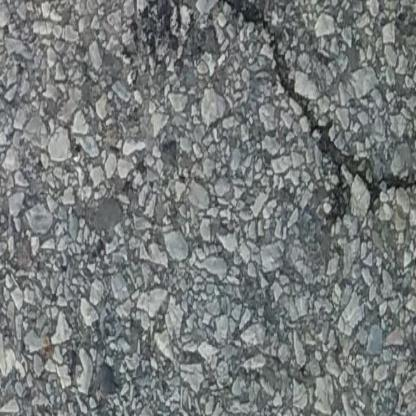Cracks: (202, 0, 416, 212)
